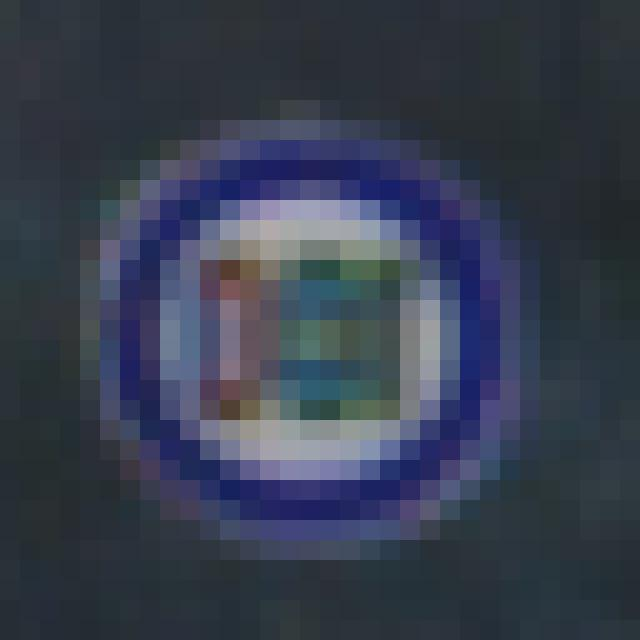SPEED LIMIT 100: (86, 119, 532, 551)
